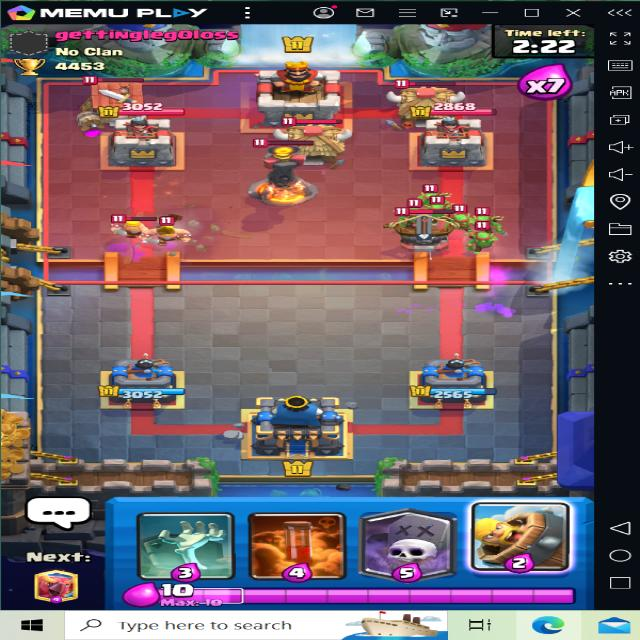barbarian: (147, 216, 193, 244), (110, 211, 154, 239)
barbarian-hut: (77, 72, 151, 132)
goblin-hut: (388, 75, 468, 127), (270, 116, 350, 159)
inferno-tower: (242, 136, 322, 203)
spear-goblin: (462, 230, 502, 252), (477, 206, 506, 229), (409, 186, 442, 206), (424, 192, 450, 217), (446, 206, 475, 227)
x-bow: (383, 198, 469, 250)
